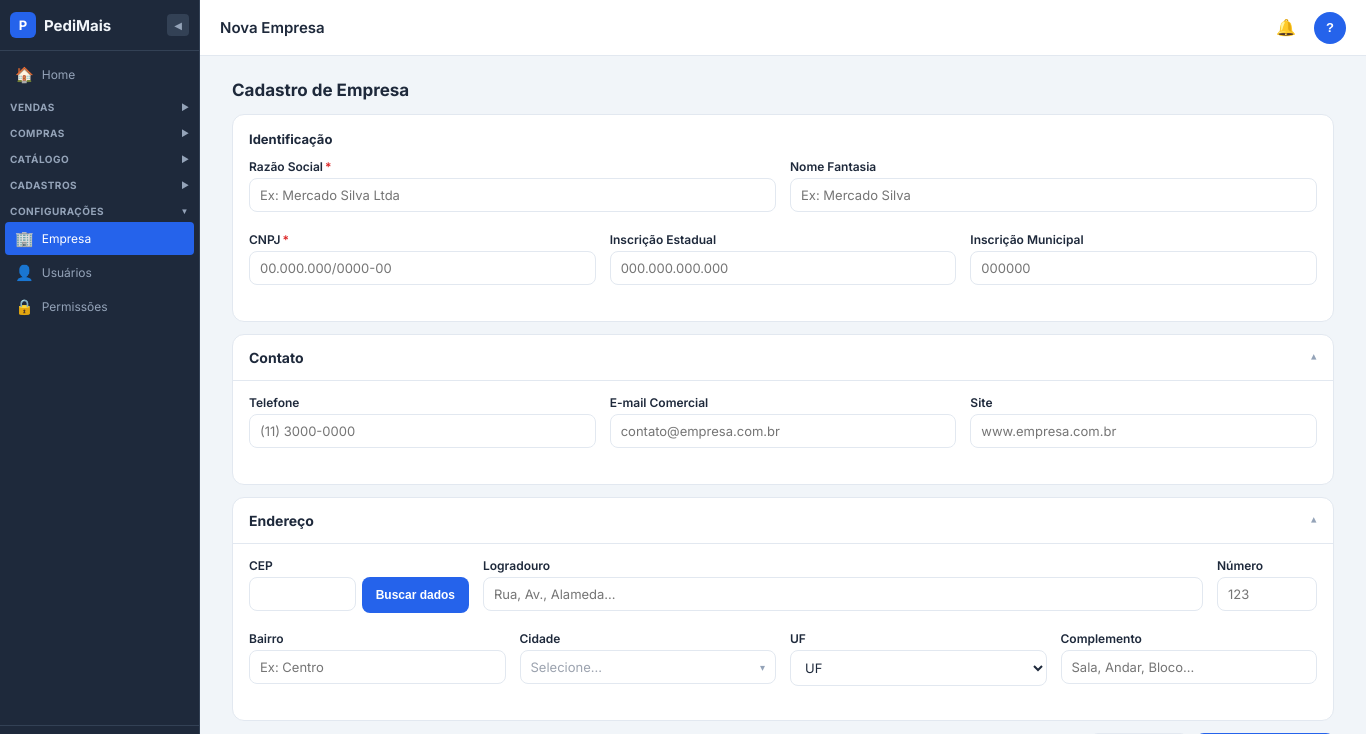
Scenario: CompanyFormView › fills the address fields from the CEP lookup
Type "01310-100" into the field with test id "zip-code" at x=302, y=594, box [249,577,356,611]
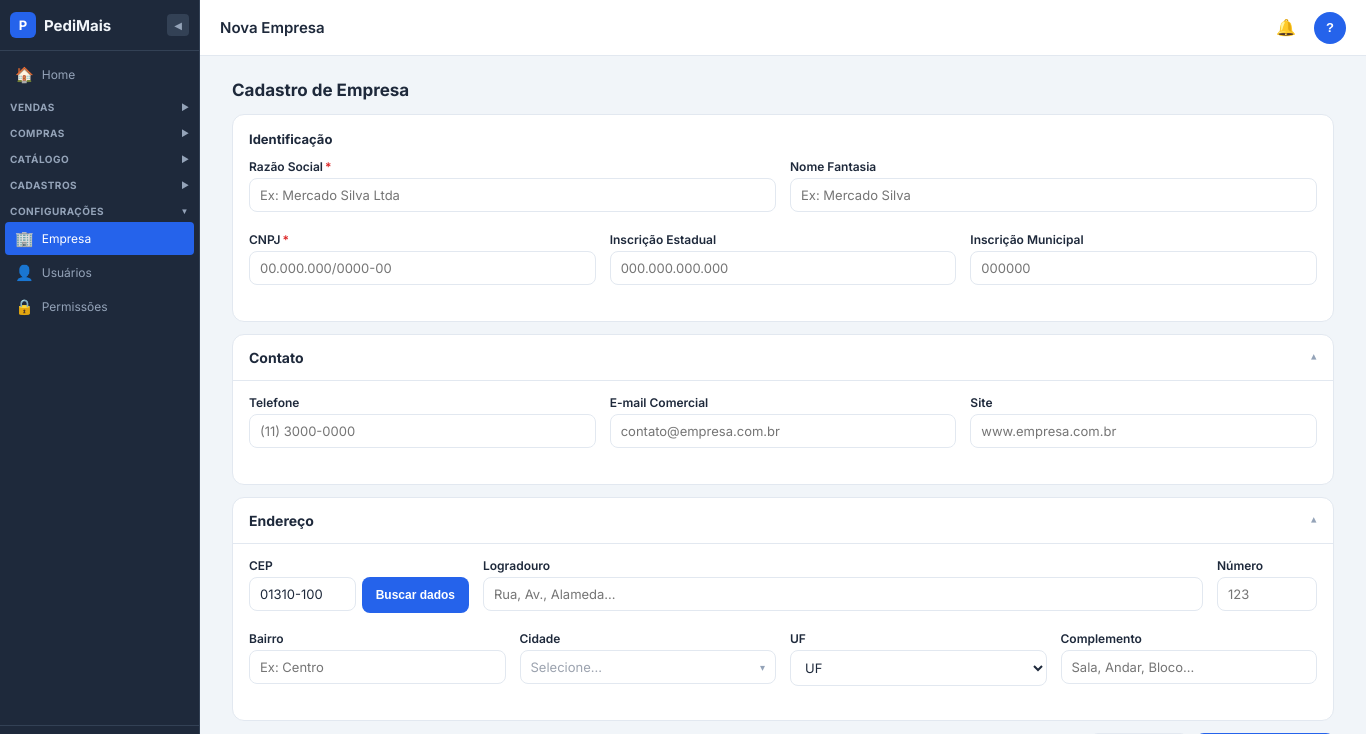
Click the button with test id "search-cep" at x=415, y=595, box [362,577,469,613]
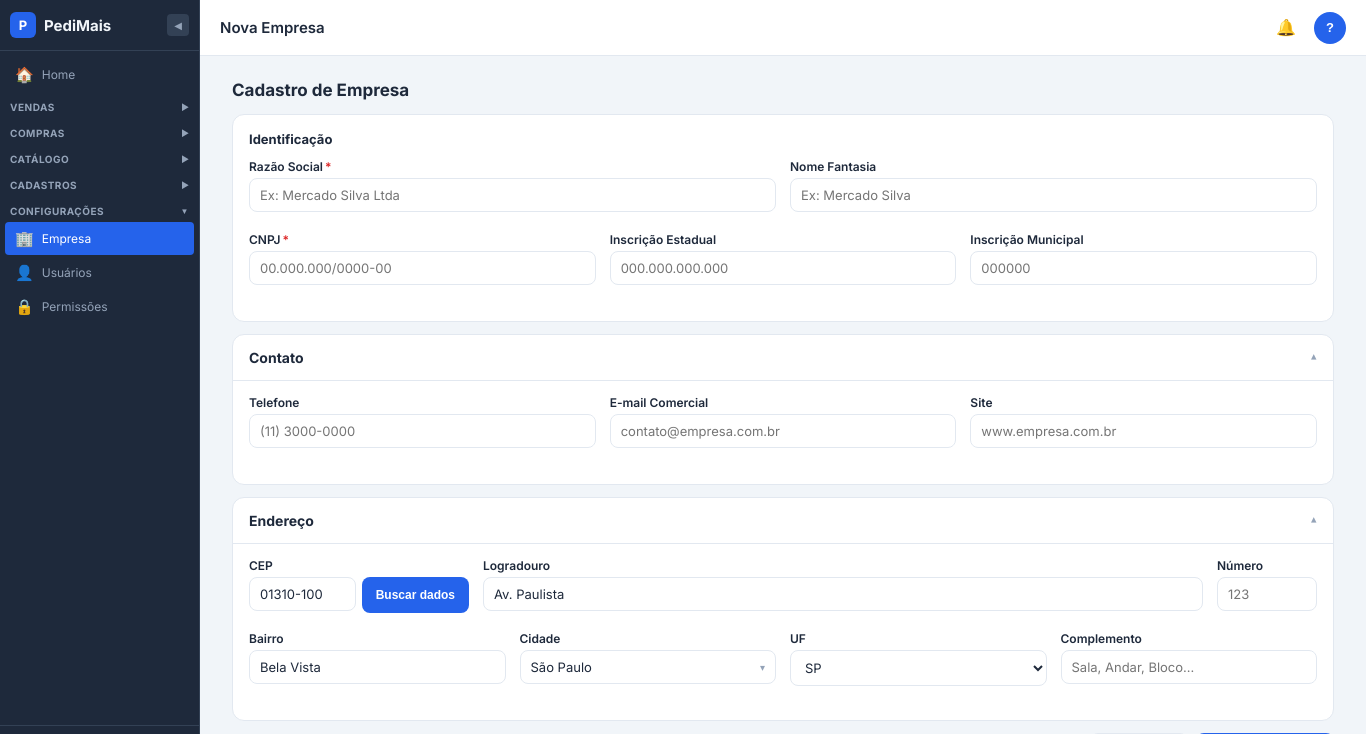
Expected: the field with test id "street" holds "Av. Paulista", [483,577,1203,611]
Expected: the element with test id "city" shows "São Paulo", [530,659,592,675]
